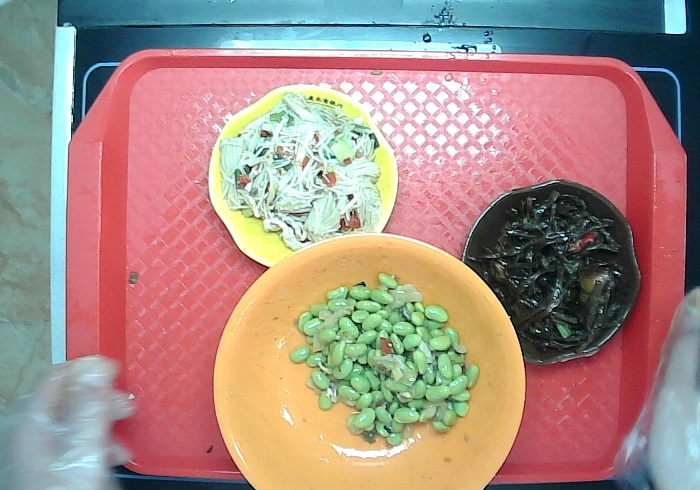YKMZ-Huang_Se_Ao_Bian_Wan: (205, 85, 399, 274)
YKMZ-Ju_Se_Tang_Wan: (210, 237, 532, 490)
YKMZ-Ka_Fei_Ao_Bian_Wan: (459, 173, 649, 370)
